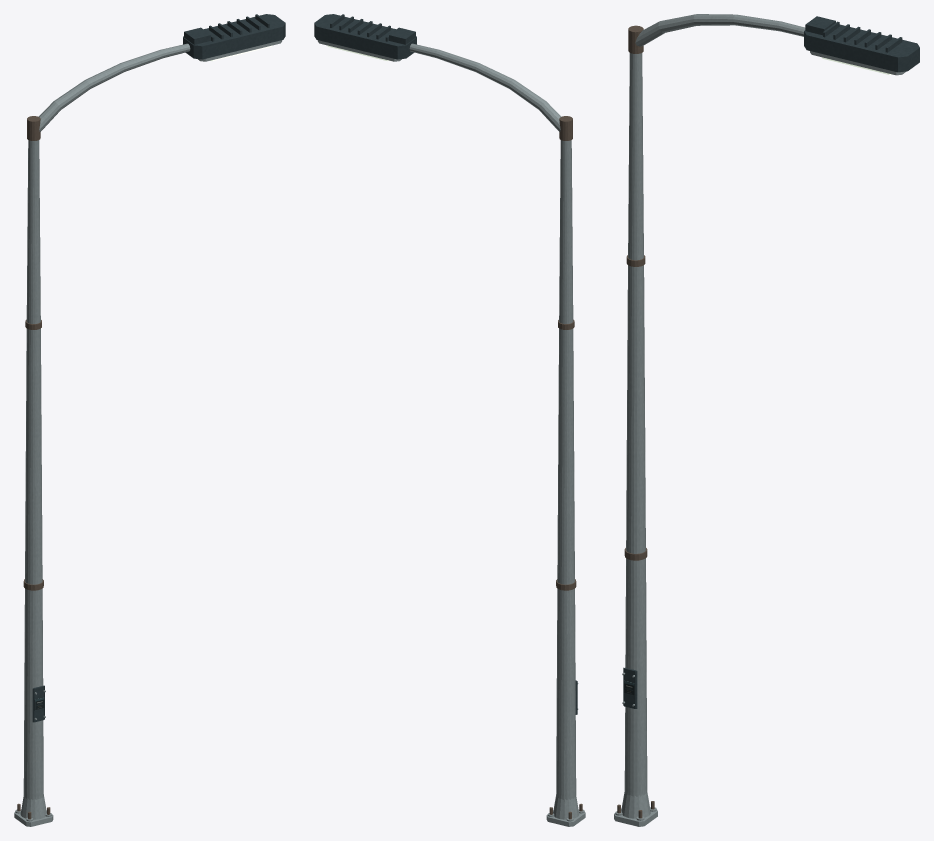
File: PZ_Urban_Streetlight_9m.glb
3 views of the same model, side by side, from view 1: azimuth 30°, elevation 25°; view 2: azimuth 150°, elevation 25°; view 3: azimuth 330°, elevation 25° (orthographic). The views are drawn at different scales.
Visible parts, largest first — view 1: RENDER__Pole_Continuous_Tapered_Shaft, RENDER__Luminaire_Upper_Cast_Housing, RENDER__Curved_Outreach_Arm, RENDER__Luminaire_Radiator_Fins; view 2: RENDER__Pole_Continuous_Tapered_Shaft, RENDER__Luminaire_Upper_Cast_Housing, RENDER__Curved_Outreach_Arm, RENDER__Luminaire_Radiator_Fins; view 3: RENDER__Pole_Continuous_Tapered_Shaft, RENDER__Luminaire_Upper_Cast_Housing, RENDER__Curved_Outreach_Arm, RENDER__Luminaire_Radiator_Fins, RENDER__Base_Neck_Socket.
Boxes of the visible parts, box(x1,y1,x2,y2) form: RENDER__Pole_Continuous_Tapered_Shaft: box(23, 140, 43, 800); RENDER__Luminaire_Upper_Cast_Housing: box(183, 14, 285, 59); RENDER__Curved_Outreach_Arm: box(38, 43, 190, 131); RENDER__Luminaire_Radiator_Fins: box(209, 14, 269, 41); RENDER__Pole_Continuous_Tapered_Shaft: box(556, 140, 576, 800); RENDER__Luminaire_Upper_Cast_Housing: box(314, 14, 416, 59); RENDER__Curved_Outreach_Arm: box(409, 43, 561, 131); RENDER__Luminaire_Radiator_Fins: box(330, 14, 390, 41); RENDER__Pole_Continuous_Tapered_Shaft: box(624, 53, 647, 796); RENDER__Luminaire_Upper_Cast_Housing: box(804, 24, 919, 72); RENDER__Curved_Outreach_Arm: box(635, 14, 805, 46); RENDER__Luminaire_Radiator_Fins: box(823, 21, 902, 52); RENDER__Base_Neck_Socket: box(621, 792, 650, 818).
Bounding box in the file's own units: 3.08 × 8.44 × 0.352.
6 materials, 6 textured.
